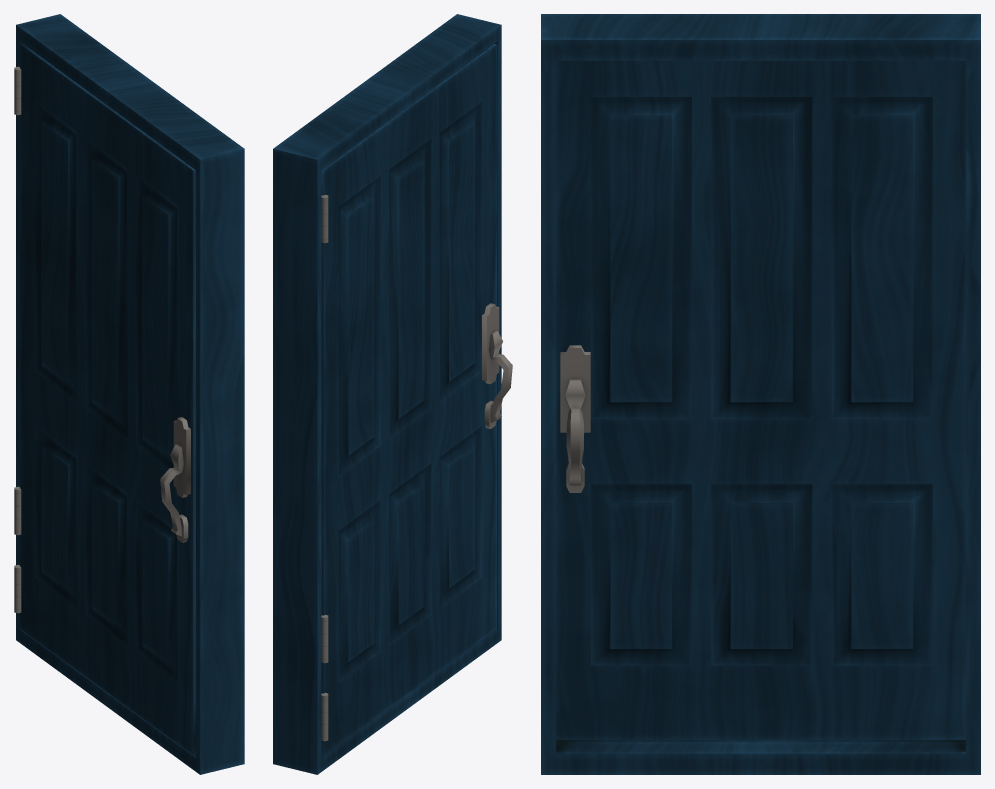
The model's file is Door_Border_In_B_Blue.fbx.
3 views of the same model, side by side, from view 1: azimuth 30°, elevation 25°; view 2: azimuth 150°, elevation 25°; view 3: azimuth 270°, elevation 25° (orthographic). The views are drawn at different scales.
Parts seen in each view (by area): view 1: U_Door_B, U_Door_Border_In_B_Blue, U_Handle_B, U_Hinge; view 2: U_Door_B, U_Door_Border_In_B_Blue, U_Handle_B, U_Hinge; view 3: U_Door_B, U_Door_Border_In_B_Blue, U_Handle_B.
Part boxes in pixels (x1,y1,x2,y2): U_Door_B: [20, 43, 195, 755]; U_Door_Border_In_B_Blue: [16, 14, 244, 774]; U_Handle_B: [160, 417, 190, 542]; U_Hinge: [14, 66, 21, 613]; U_Door_B: [321, 44, 496, 755]; U_Door_Border_In_B_Blue: [273, 14, 501, 774]; U_Handle_B: [482, 303, 512, 428]; U_Hinge: [321, 194, 328, 741]; U_Door_B: [556, 61, 965, 739]; U_Door_Border_In_B_Blue: [541, 14, 980, 774]; U_Handle_B: [560, 345, 590, 492].
Bounding box in the file's own units: 28.89 × 250 × 136.
Materials: 1 (1 with a texture image).
